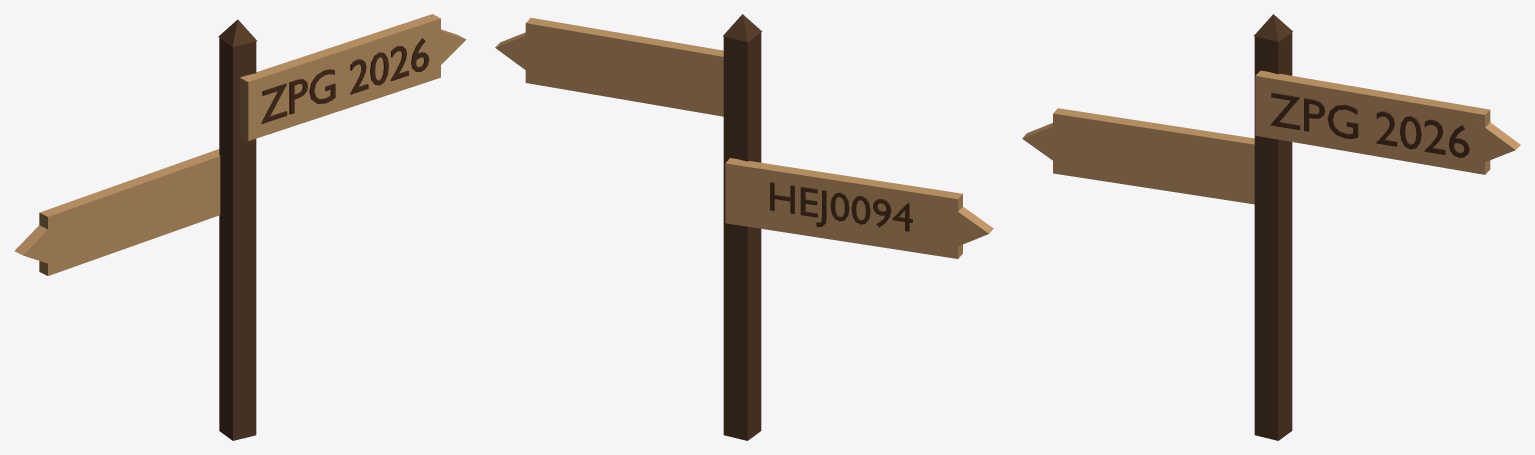
The model's file is signpost.obj.
3 views of the same model, side by side, from view 1: azimuth 30°, elevation 25°; view 2: azimuth 150°, elevation 25°; view 3: azimuth 330°, elevation 25° (orthographic).
Visible parts, largest first — view 1: signpost; view 2: signpost; view 3: signpost.
Boxes of the visible parts, bbox=[...] form: signpost: bbox=[14, 14, 466, 440]; signpost: bbox=[495, 14, 993, 440]; signpost: bbox=[1022, 14, 1520, 440].
Bounding box in the file's own units: 1.99 × 1.68 × 0.2264.
